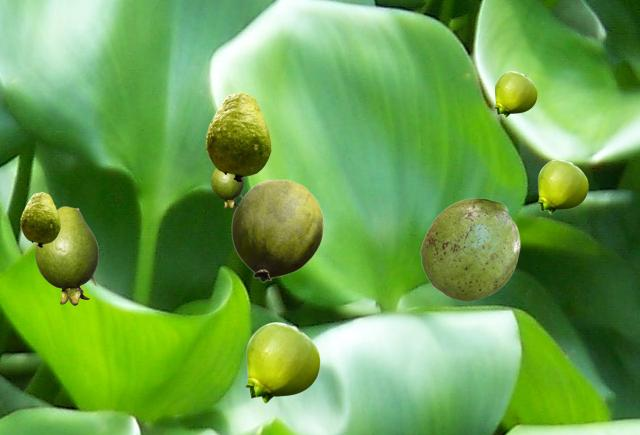guava: (420, 198, 519, 300), (231, 179, 323, 281), (35, 206, 97, 304), (245, 322, 319, 402), (205, 92, 270, 181), (537, 159, 587, 213), (20, 192, 59, 246), (494, 71, 536, 116), (211, 169, 242, 207)
